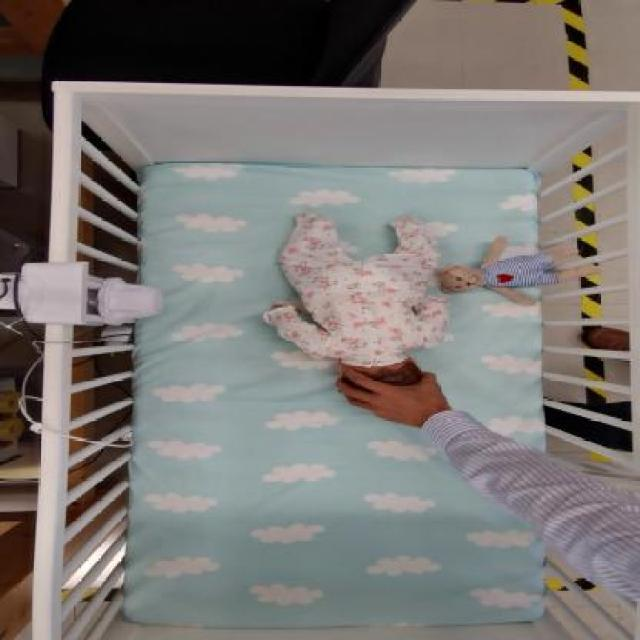baby: (266, 212, 449, 410)
